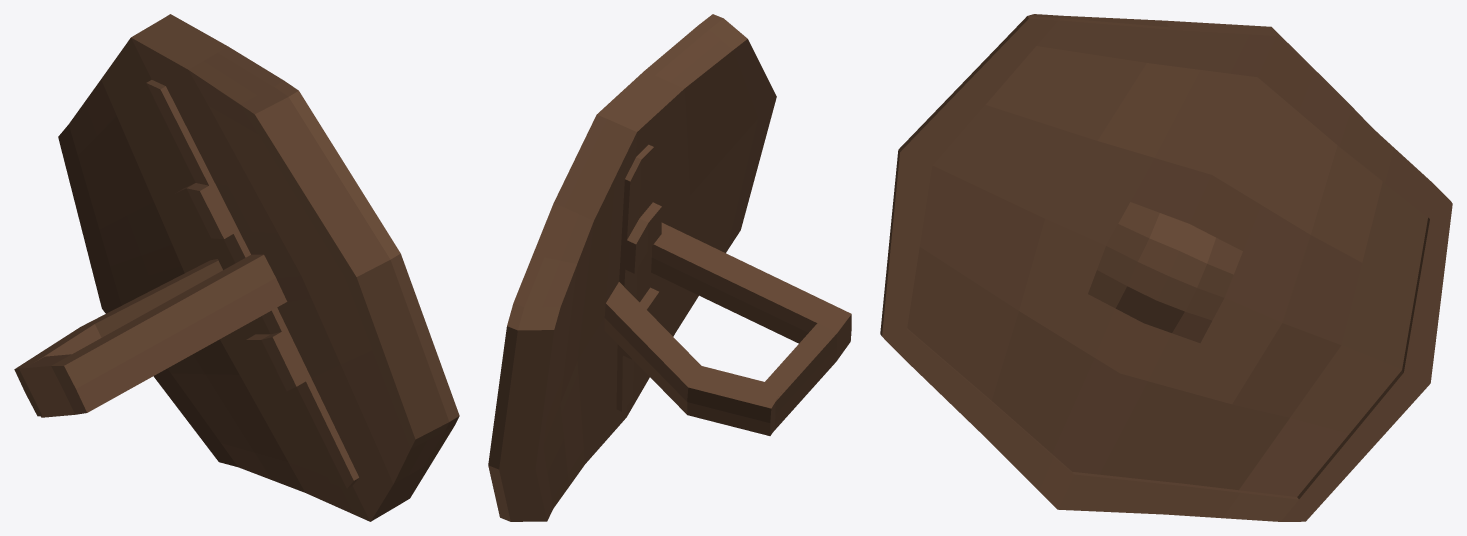
File: Worker_Ant_Shield.fbx
The picture shows the model from 3 angles, left to right: view 1: azimuth 30°, elevation 25°; view 2: azimuth 150°, elevation 25°; view 3: azimuth 270°, elevation 25°; orthographic projection. The views are drawn at different scales.
Visible parts, largest first — view 1: shield; view 2: shield; view 3: shield.
Part boxes in pixels (x1,y1,x2,y2): shield: (14,14,459,521); shield: (488,14,851,521); shield: (880,14,1452,521).
Size of the model in its own units: 79.41 by 114 by 128.
